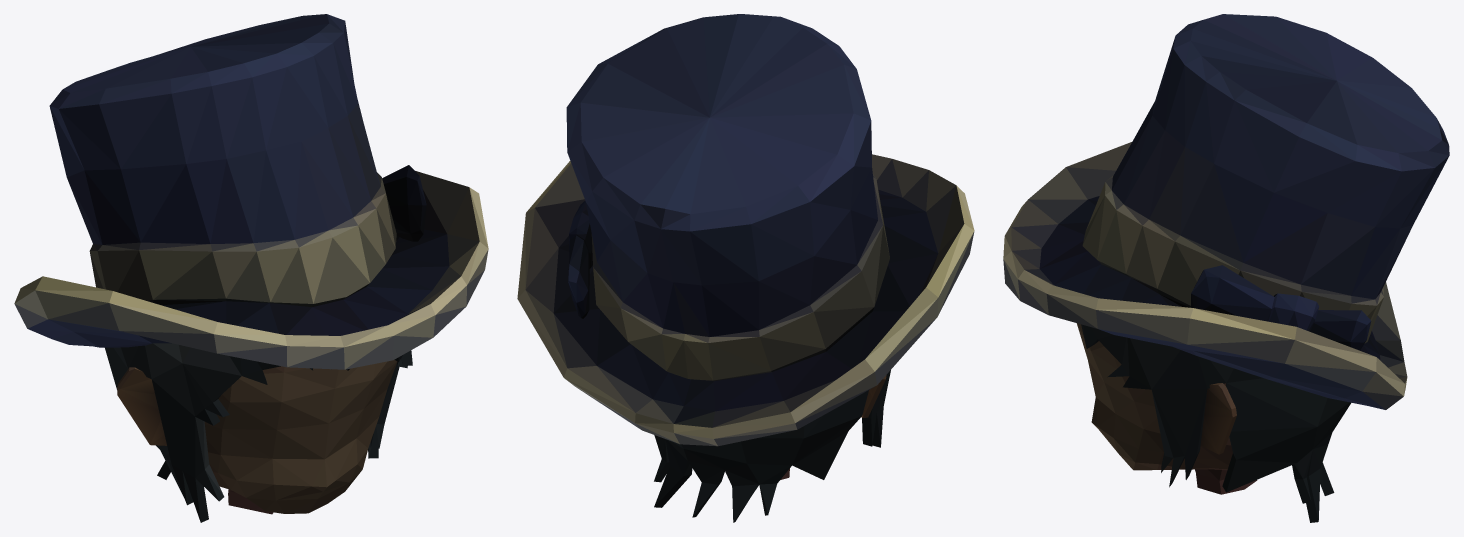
File: helm_darkskin_standard_black_tophat.fbx
3 views of the same model, side by side, from view 1: azimuth 30°, elevation 25°; view 2: azimuth 150°, elevation 25°; view 3: azimuth 270°, elevation 25° (orthographic). The views are drawn at different scales.
Visible parts, largest first — view 1: helm_darkskin_standard_black_tophat; view 2: helm_darkskin_standard_black_tophat; view 3: helm_darkskin_standard_black_tophat.
Boxes of the visible parts, box(x1,y1,x2,y2) form: helm_darkskin_standard_black_tophat: box(14, 14, 488, 522); helm_darkskin_standard_black_tophat: box(517, 14, 974, 522); helm_darkskin_standard_black_tophat: box(1003, 14, 1449, 522).
Size of the model in its own units: 1.67 by 1.86 by 1.64.
